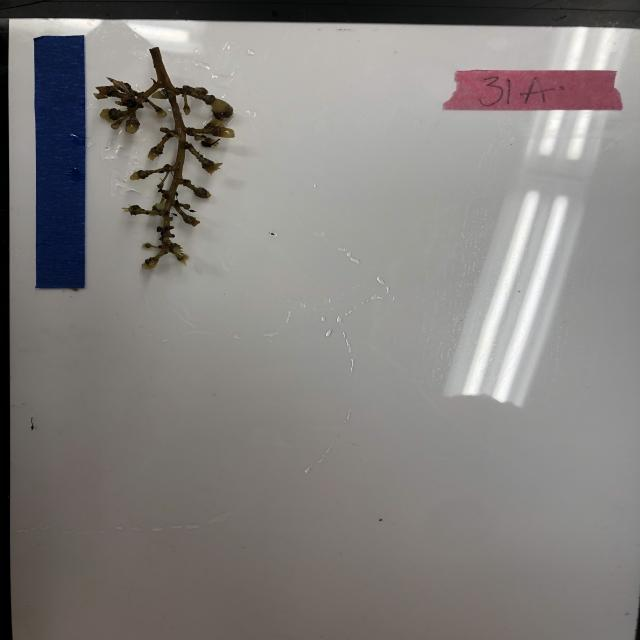index: (443, 67, 627, 113)
measure_label: (31, 32, 87, 291)
rachis_cluster: (94, 44, 238, 270)
